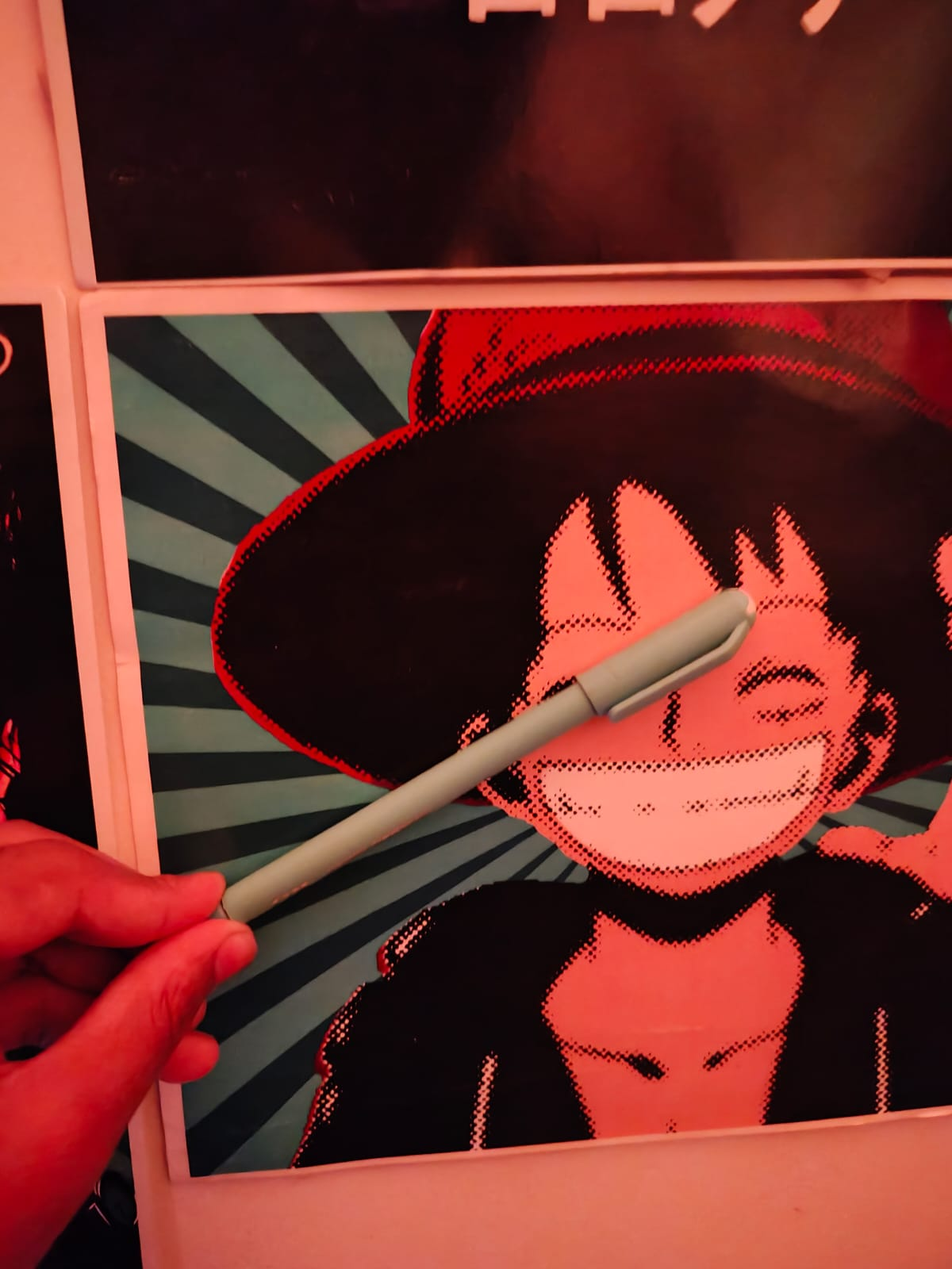pen: (204, 578, 784, 921)
